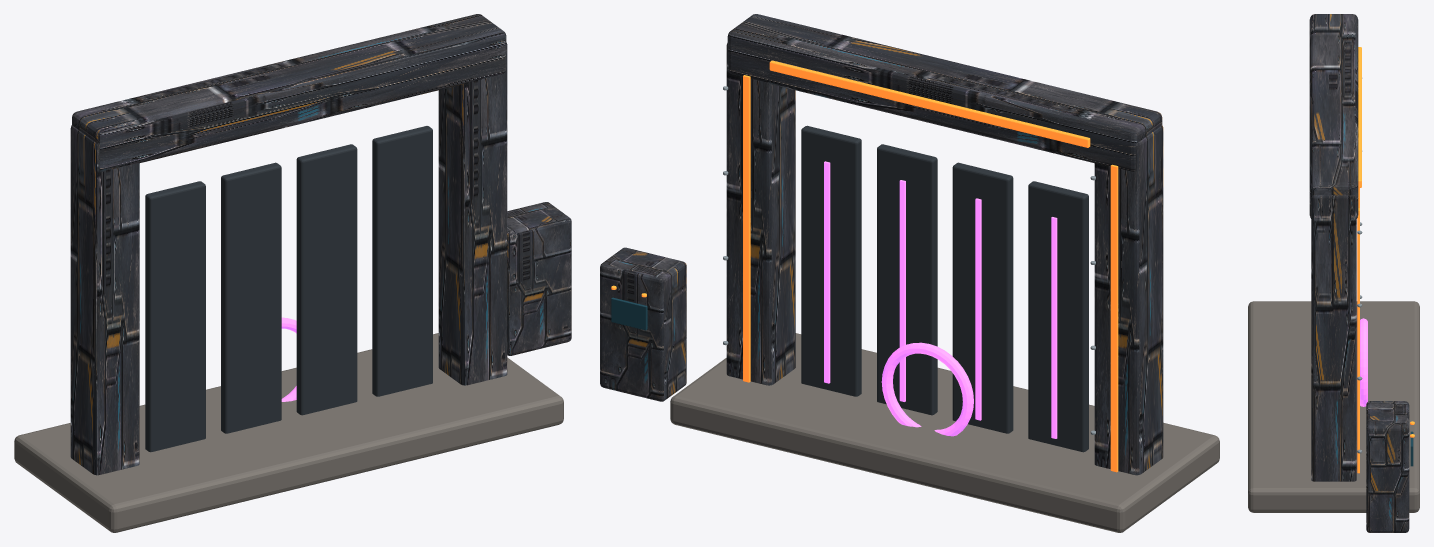
Rendered from resonance_support_safety_gate.glb.
The picture shows the model from 3 angles, left to right: view 1: azimuth 30°, elevation 25°; view 2: azimuth 150°, elevation 25°; view 3: azimuth 270°, elevation 25°; orthographic projection. The views are drawn at different scales.
Parts seen in each view (by area): view 1: Foundation/plinth, Gate/header, Gate/pillar_-3.4, Gate/pillar_3.4, Gate/door_0.7, Gate/door_-2.1, Gate/door_-0.7, Gate/door_2.1, Console/housing; view 2: Foundation/plinth, Gate/header, Gate/pillar_-3.4, Gate/pillar_3.4, Gate/door_-2.1, Gate/door_2.1, Gate/door_-0.7, Gate/door_0.7, Console/housing, Gate/header_warning, Gate/pillar_light_-3.4, Gate/lock_ring (+6 smaller); view 3: Foundation/plinth, Gate/pillar_3.4, Gate/header, Console/housing, Gate/pillar_light_3.4, Gate/lock_ring, Gate/header_warning.
Part boxes in pixels (<box>): Foundation/plinth: <box>14,333,563,532</box>; Gate/header: <box>72,14,506,171</box>; Gate/pillar_-3.4: <box>70,125,139,475</box>; Gate/pillar_3.4: <box>438,42,507,385</box>; Gate/door_0.7: <box>296,144,357,415</box>; Gate/door_-2.1: <box>145,181,205,452</box>; Gate/door_-0.7: <box>221,162,281,433</box>; Gate/door_2.1: <box>372,126,432,396</box>; Console/housing: <box>507,202,571,355</box>; Foundation/plinth: <box>670,333,1219,532</box>; Gate/header: <box>727,14,1162,171</box>; Gate/pillar_-3.4: <box>1094,125,1163,475</box>; Gate/pillar_3.4: <box>726,43,795,385</box>; Gate/door_-2.1: <box>1028,181,1088,452</box>; Gate/door_2.1: <box>801,125,861,396</box>; Gate/door_-0.7: <box>952,162,1013,433</box>; Gate/door_0.7: <box>877,144,937,415</box>; Console/housing: <box>600,247,686,401</box>; Gate/header_warning: <box>769,60,1090,147</box>; Gate/pillar_light_-3.4: <box>1110,164,1118,472</box>; Gate/lock_ring: <box>881,342,973,436</box>; Foundation/plinth: <box>1248,301,1419,512</box>; Gate/pillar_3.4: <box>1311,195,1356,481</box>; Gate/header: <box>1309,14,1358,218</box>; Console/housing: <box>1366,401,1409,532</box>; Gate/pillar_light_3.4: <box>1357,208,1359,473</box>; Gate/lock_ring: <box>1360,318,1367,406</box>; Gate/header_warning: <box>1358,47,1361,187</box>.
Bounding box in the file's own units: 9.8 × 6.59 × 3.2.
7 materials, 1 textured.
